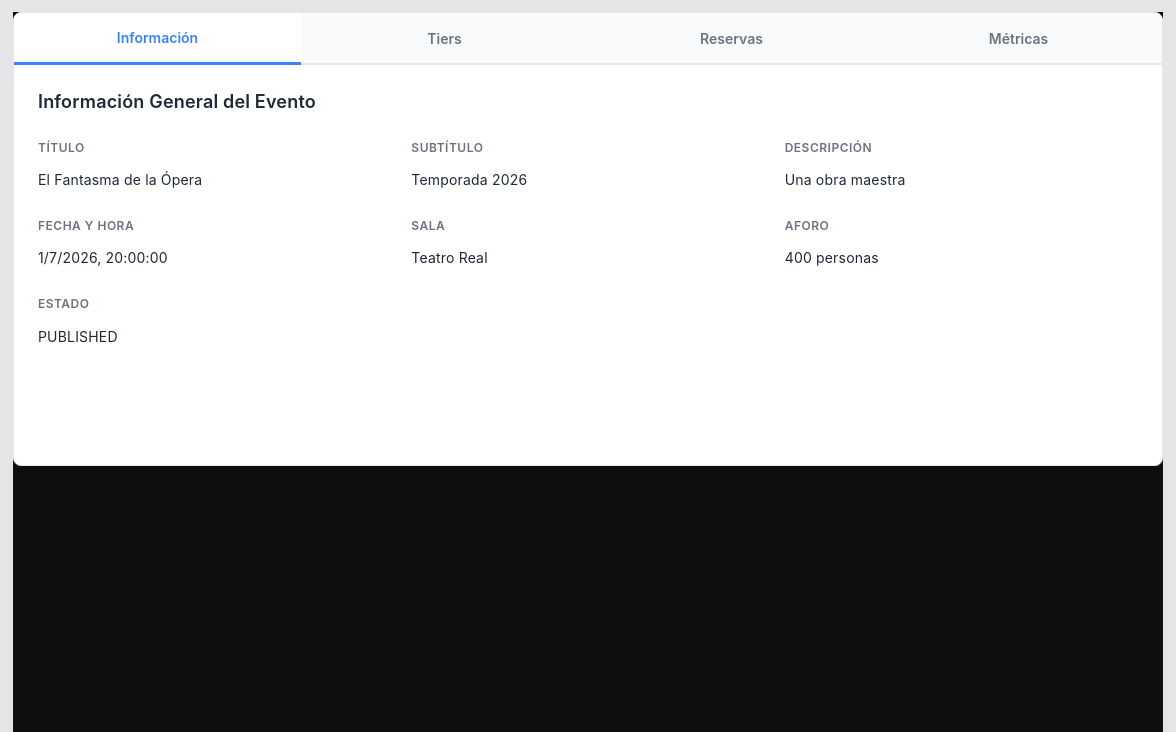
EventDetailTabs › switches to Reservas tab on click
The image size is (1176, 732).
Click the button "Reservas" at (732, 38), box [588,13,875,63]
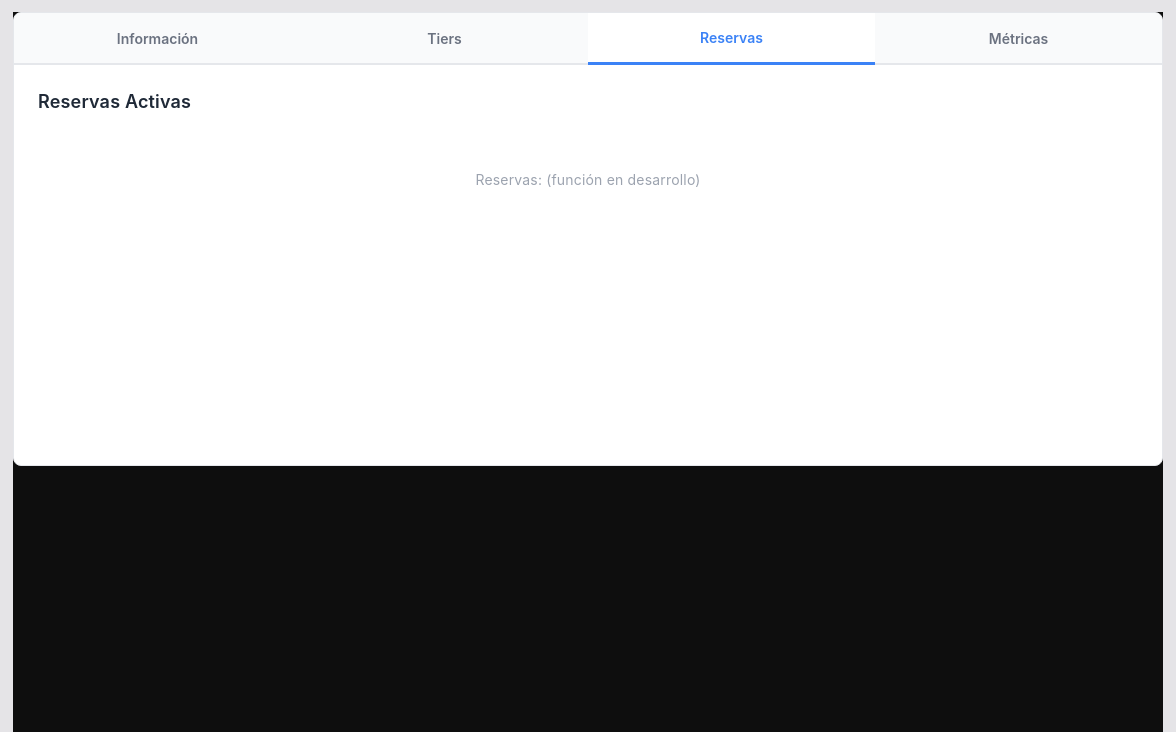
Expected: the heading "Reservas Activas" is shown, [38,91,191,112]
